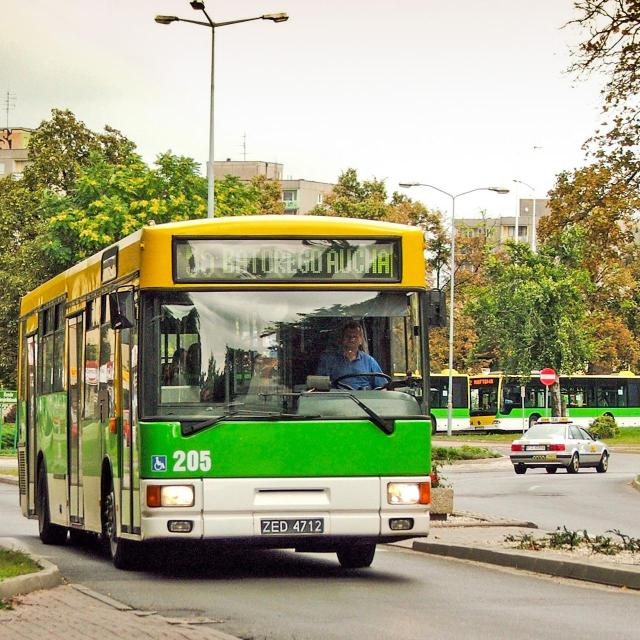Bus: (17, 216, 437, 569)
